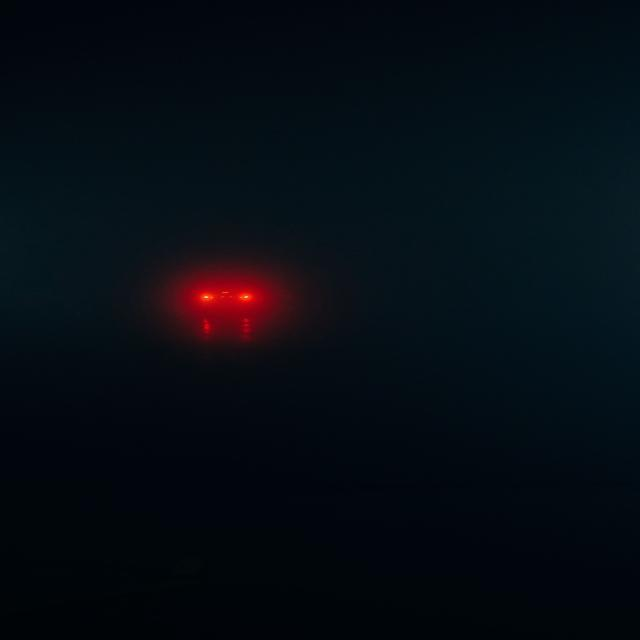car: (199, 286, 254, 310)
